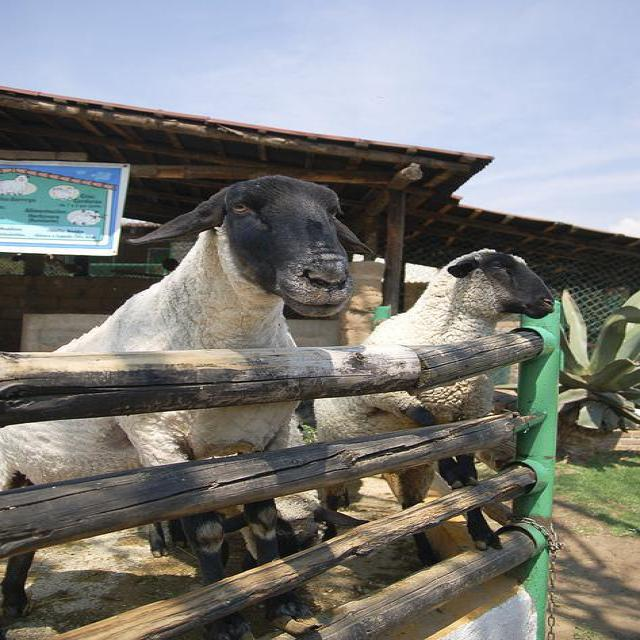Sheep: (0, 178, 382, 493), (313, 249, 556, 509)
